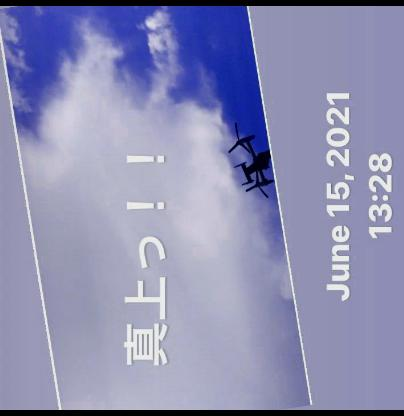Tornado: (226, 122, 274, 198)
